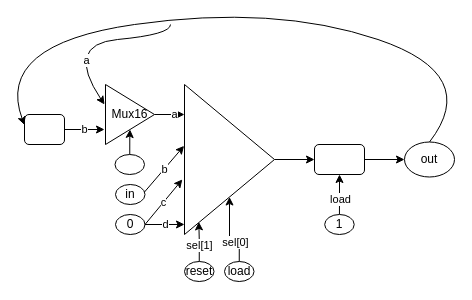
This 472x300 diagram has some shape labels left out. The centre of each missing label's shape, as x and y in pixels:
"inc" belongs at (x=129, y=164).
"Inc16" belongs at (x=44, y=129).
"Mux4Way16" belongs at (x=229, y=159).
"Register" belongs at (x=339, y=159).
